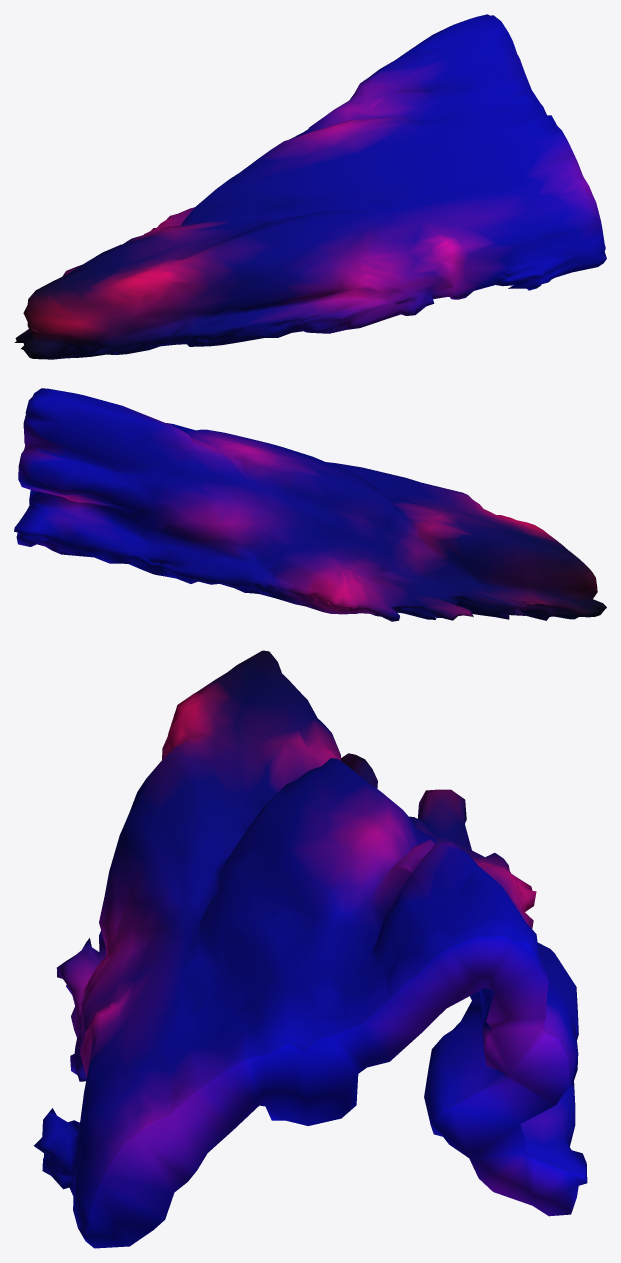
File: tin_vein-u4-cold-lod0.gltf
3 views of the same model, one above another, from view 1: azimuth 30°, elevation 25°; view 2: azimuth 150°, elevation 25°; view 3: azimuth 270°, elevation 25° (orthographic). The views are drawn at different scales.
Visible parts, largest first — view 1: tin_vein-u4-cold-lod0; view 2: tin_vein-u4-cold-lod0; view 3: tin_vein-u4-cold-lod0.
Part boxes in pixels (left/top/right/bottom): tin_vein-u4-cold-lod0: left=14, top=14, right=606, bottom=359; tin_vein-u4-cold-lod0: left=14, top=388, right=606, bottom=621; tin_vein-u4-cold-lod0: left=34, top=650, right=587, bottom=1248.
Size of the model in its own units: 1.65 by 0.489 by 0.7795.
